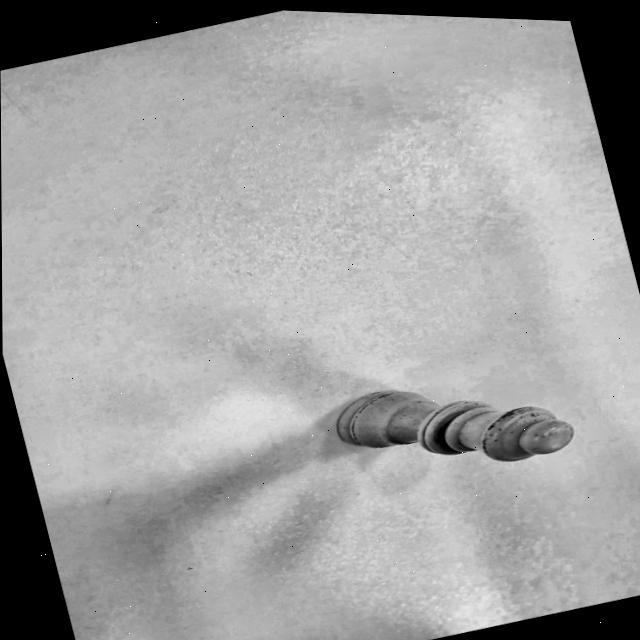white-queen: (293, 327, 610, 534)
